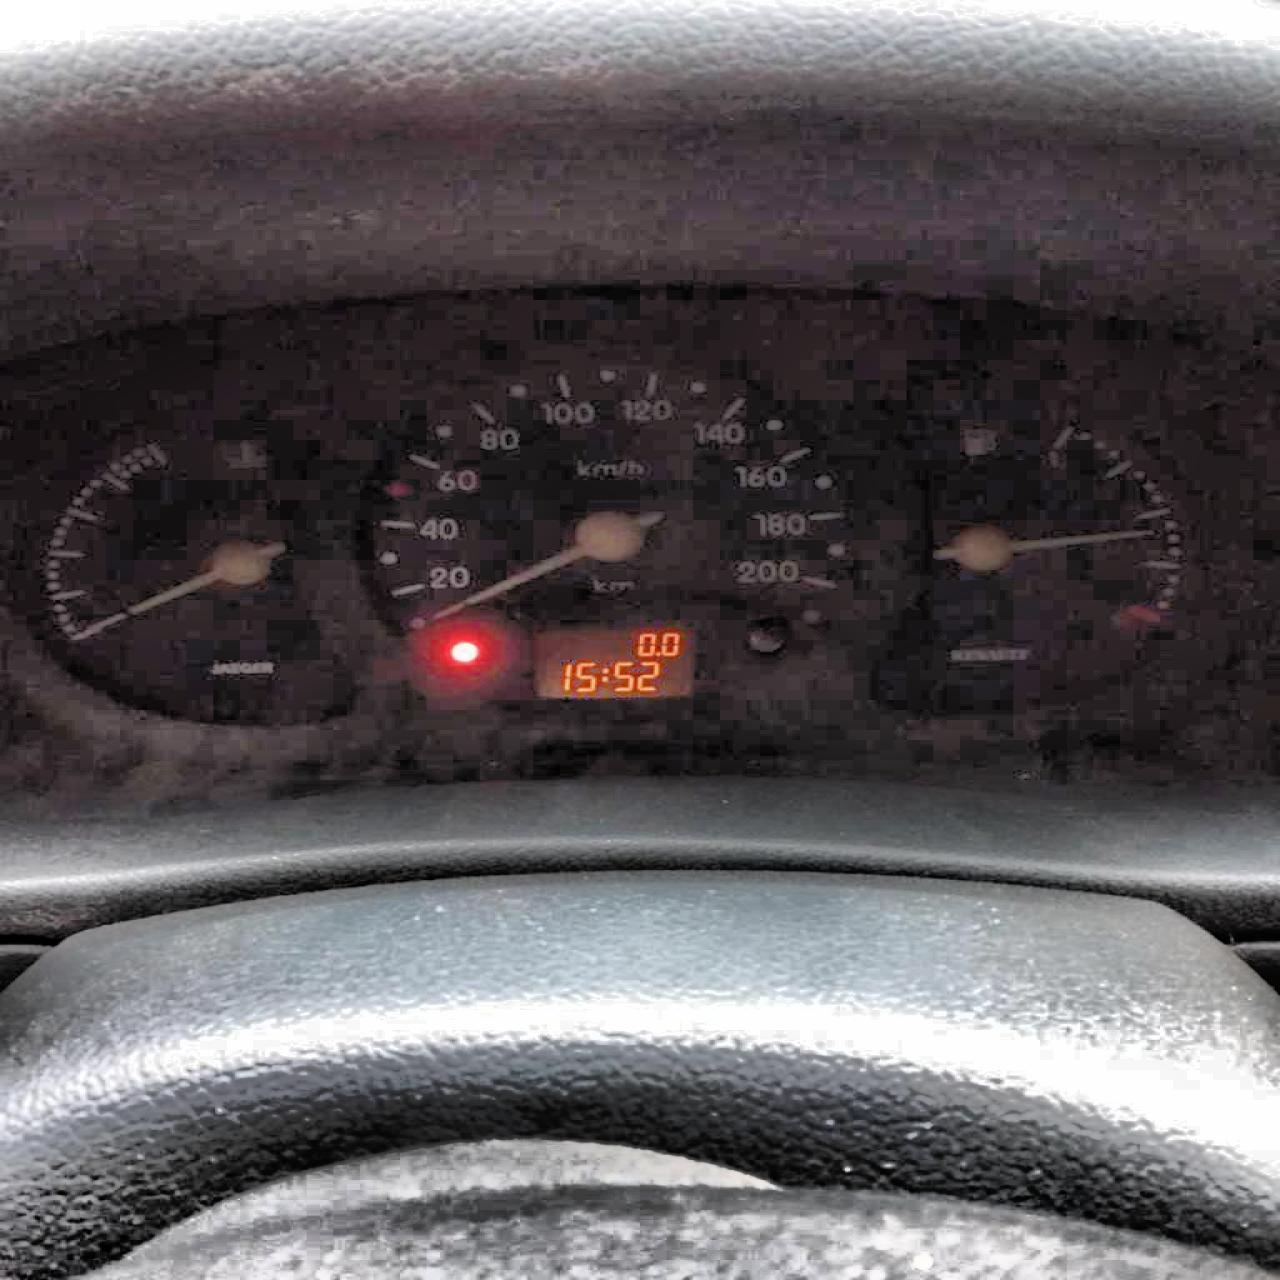-: (653, 652, 660, 656)
0: (633, 629, 655, 656), (660, 629, 679, 656)
1: (558, 660, 572, 692)
2: (635, 659, 660, 693)
5: (573, 659, 597, 693), (610, 659, 633, 693)
X: (597, 666, 611, 682)
odometer: (524, 622, 699, 702)
